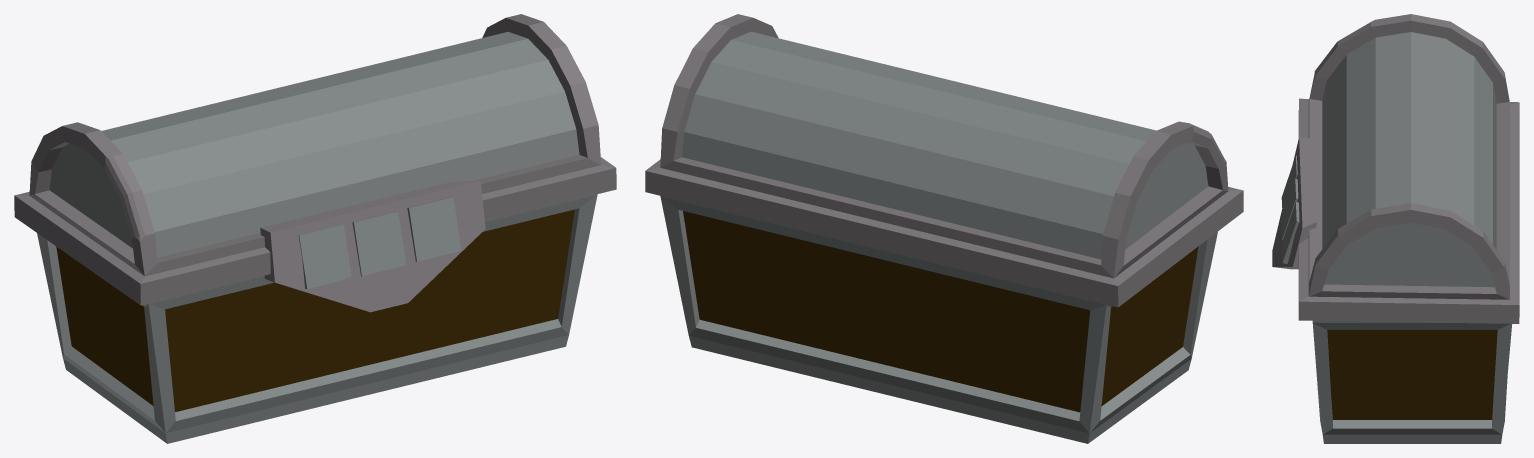
The model's file is syndykOFF1.fbx.
The picture shows the model from 3 angles, left to right: view 1: azimuth 30°, elevation 25°; view 2: azimuth 150°, elevation 25°; view 3: azimuth 270°, elevation 25°; orthographic projection. The views are drawn at different scales.
Visible parts, largest first — view 1: Plane.002, Plane.001; view 2: Plane.002, Plane.001; view 3: Plane.002, Plane.001.
Part boxes in pixels (x1=…): Plane.002: x1=14, y1=14, x2=616, y2=312; Plane.001: x1=37, y1=194, x2=597, y2=443; Plane.002: x1=645, y1=14, x2=1243, y2=307; Plane.001: x1=660, y1=196, x2=1217, y2=443; Plane.002: x1=1272, y1=14, x2=1519, y2=323; Plane.001: x1=1312, y1=320, x2=1512, y2=443.
Bounding box in the file's own units: 1000 × 565 × 515.
